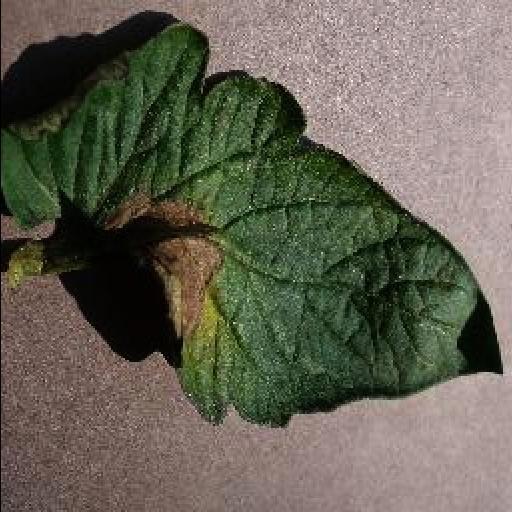disease_tomato: (0, 24, 502, 430)
